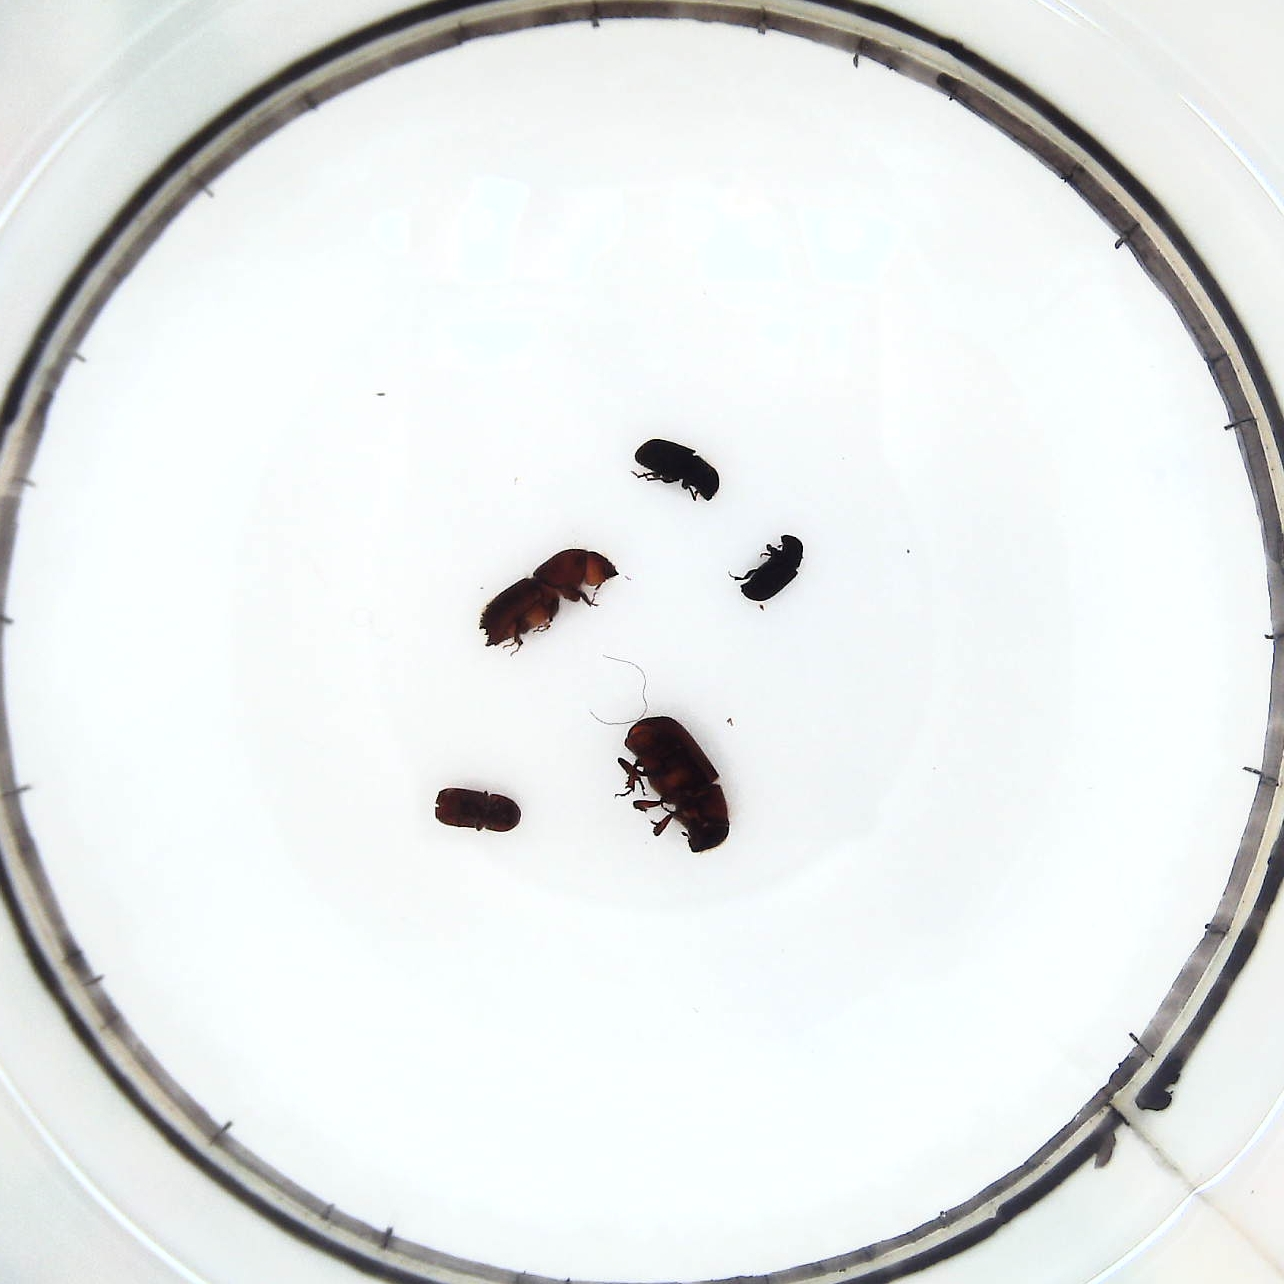Boerner: (479, 546, 627, 653)
Leconte: (617, 713, 736, 860)
armandi: (627, 435, 727, 508)
coleoptera: (731, 531, 812, 603)
linnaeus: (424, 784, 522, 842)
